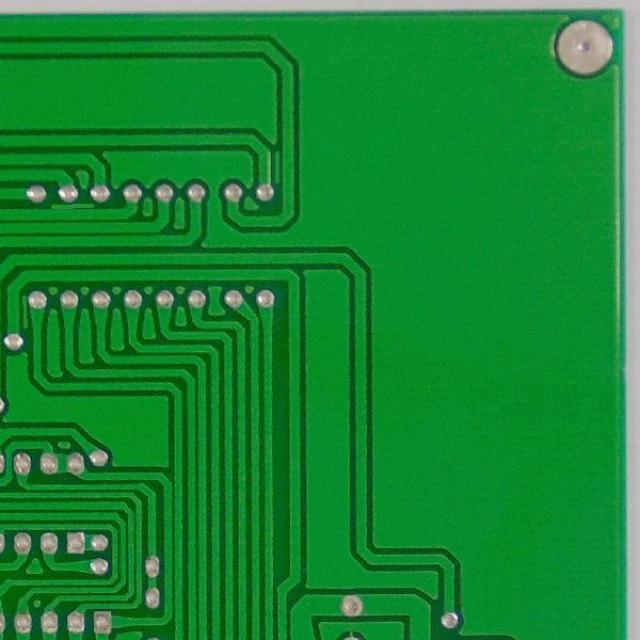spurious_copper: (266, 146, 287, 188), (46, 195, 96, 212)
